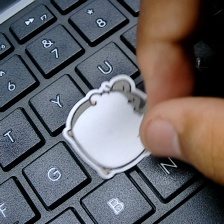mouse: (58, 68, 171, 184)
